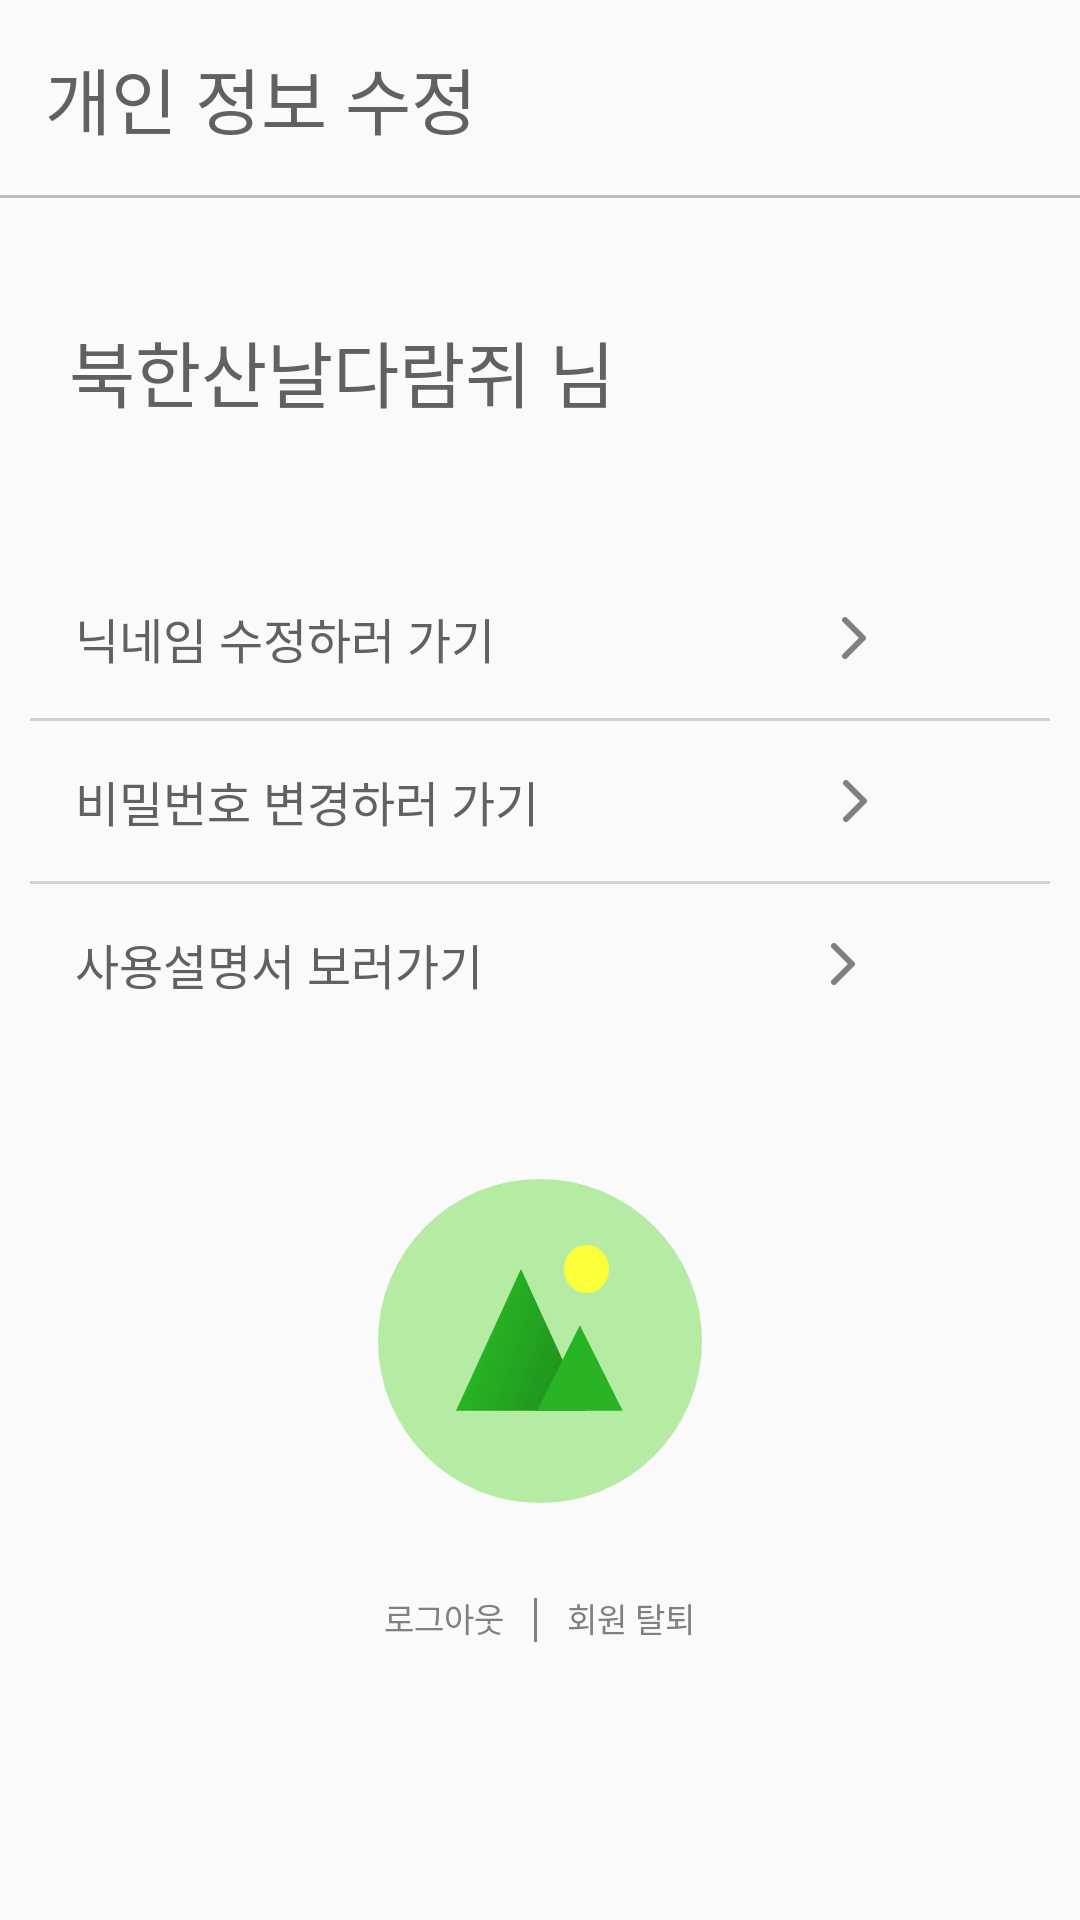

Point at icon controls on the screen. Image size 1080x1920, points as (x=x, y=y).
right direction: (x=854, y=638), (x=855, y=801), (x=843, y=964)
